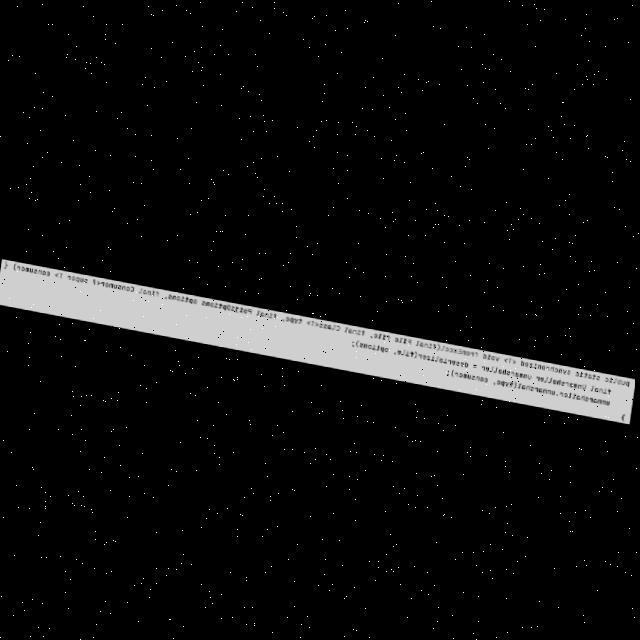code_screen: (0, 259, 635, 424)
